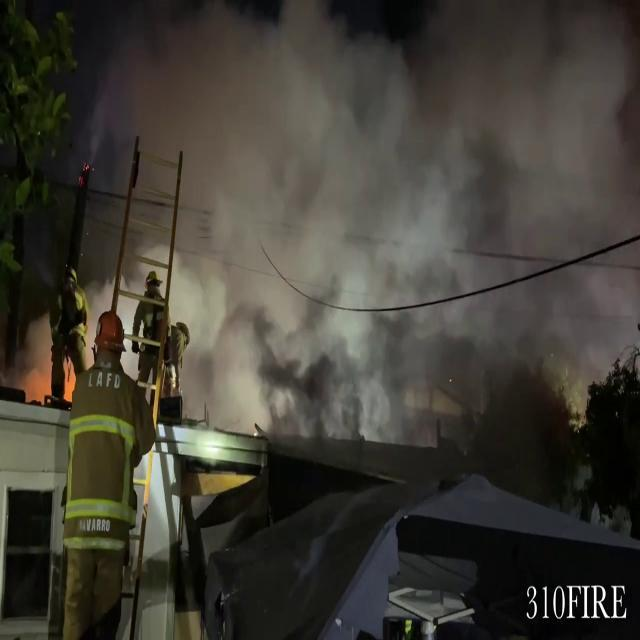Smoke: (110, 0, 640, 464)
